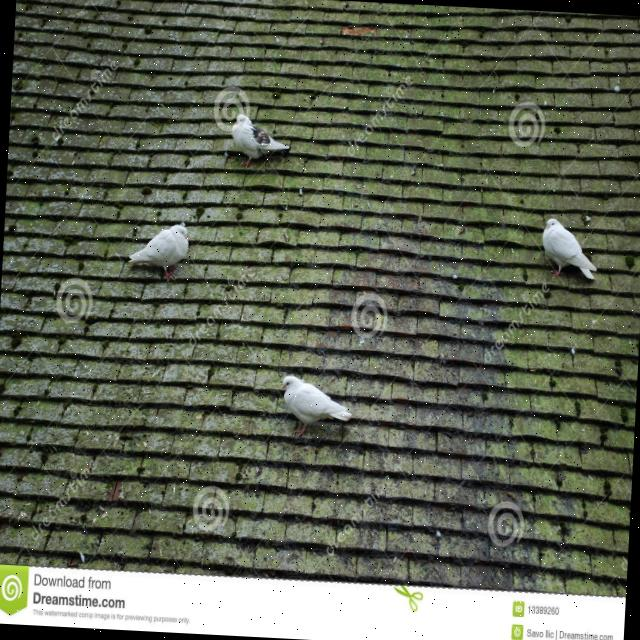bird: (276, 373, 356, 443), (125, 218, 192, 285), (538, 216, 602, 284), (226, 113, 292, 173)
